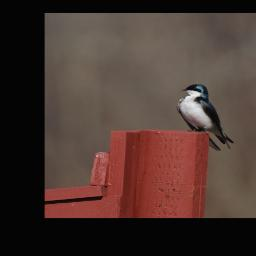Swallow: (176, 83, 235, 150)
